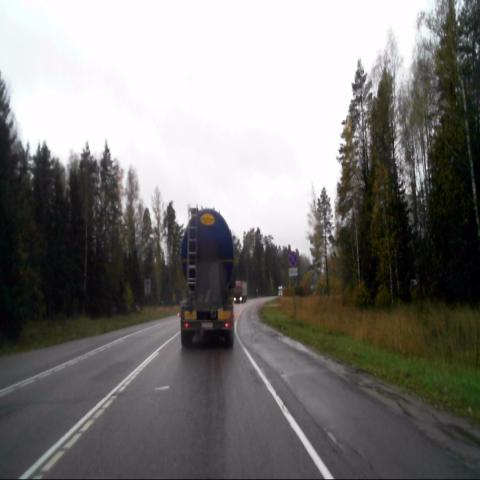3_27: (287, 250, 297, 266)
